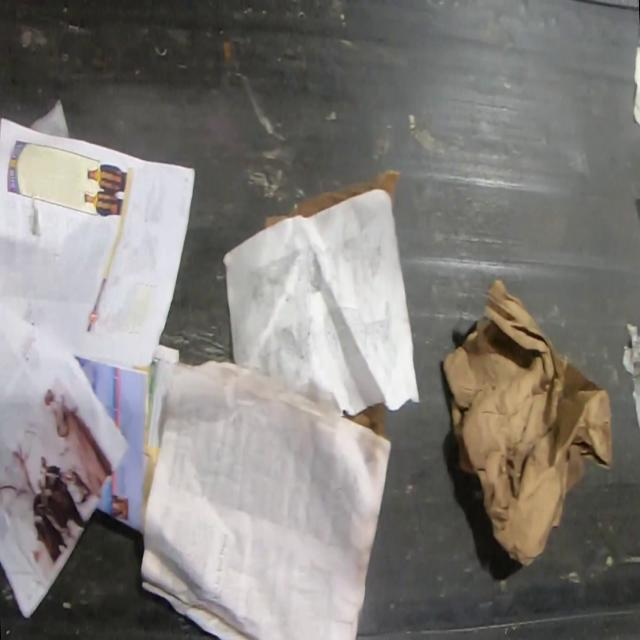cardboard: (440, 278, 614, 568), (294, 172, 404, 230), (344, 402, 383, 437)
